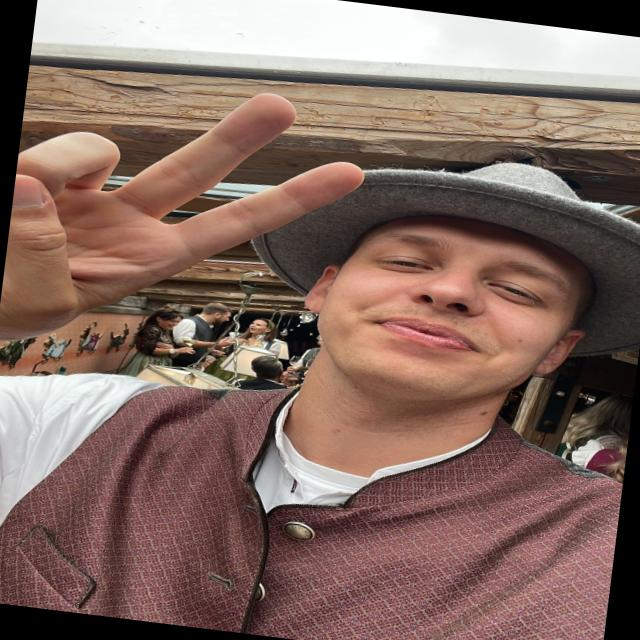JeremiasDiaz: (295, 221, 604, 424)
